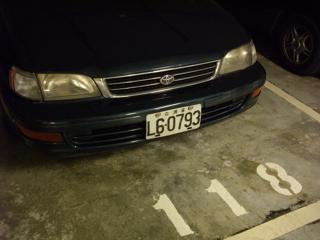plate: (143, 106, 203, 136)
